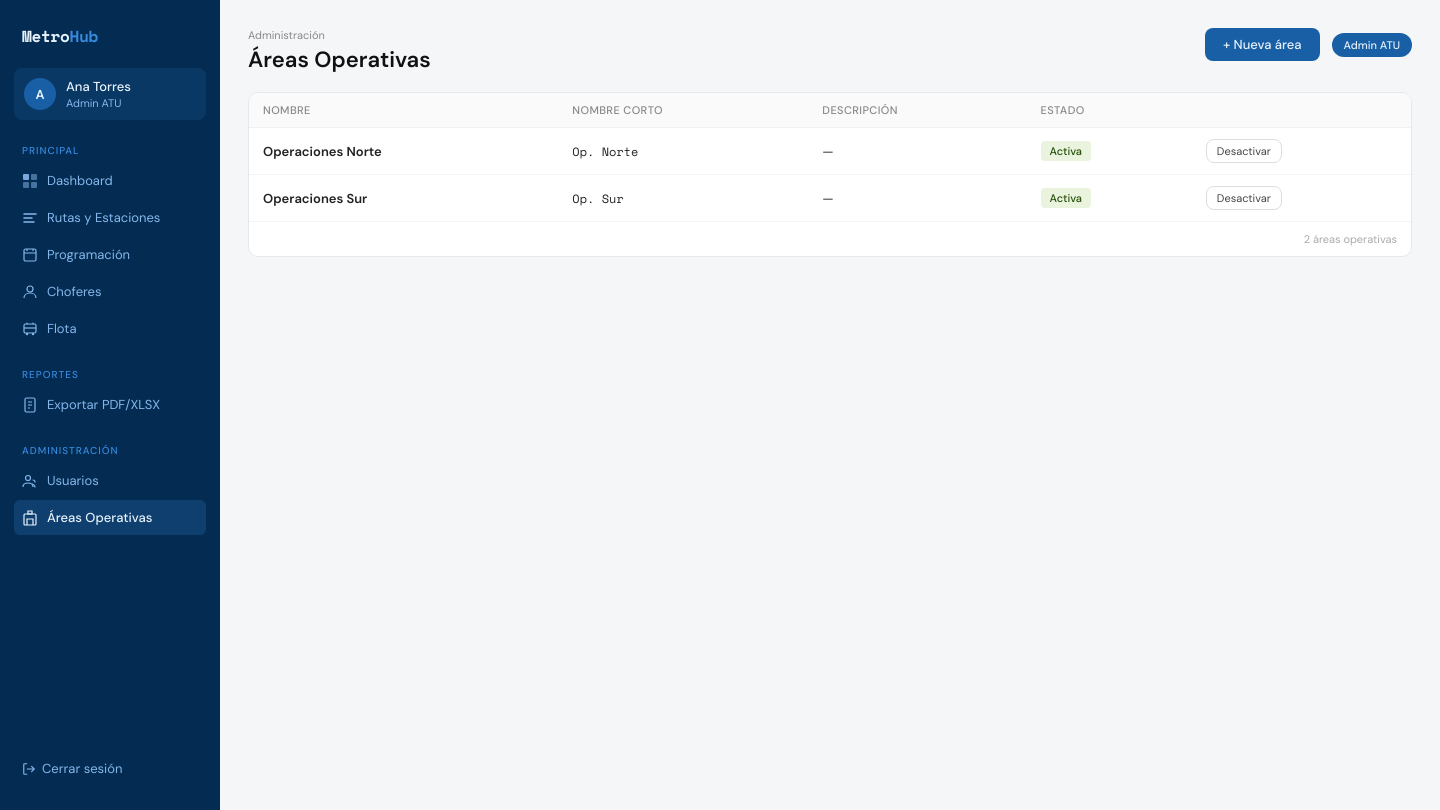
Test case: Areas (RF08) › crea un área y la agrega a la tabla
Expected: the text "Operaciones Norte" is shown, [263,142,382,160]
Click the button "+ Nueva área".
click(1262, 44)  # box [1205,28,1320,61]
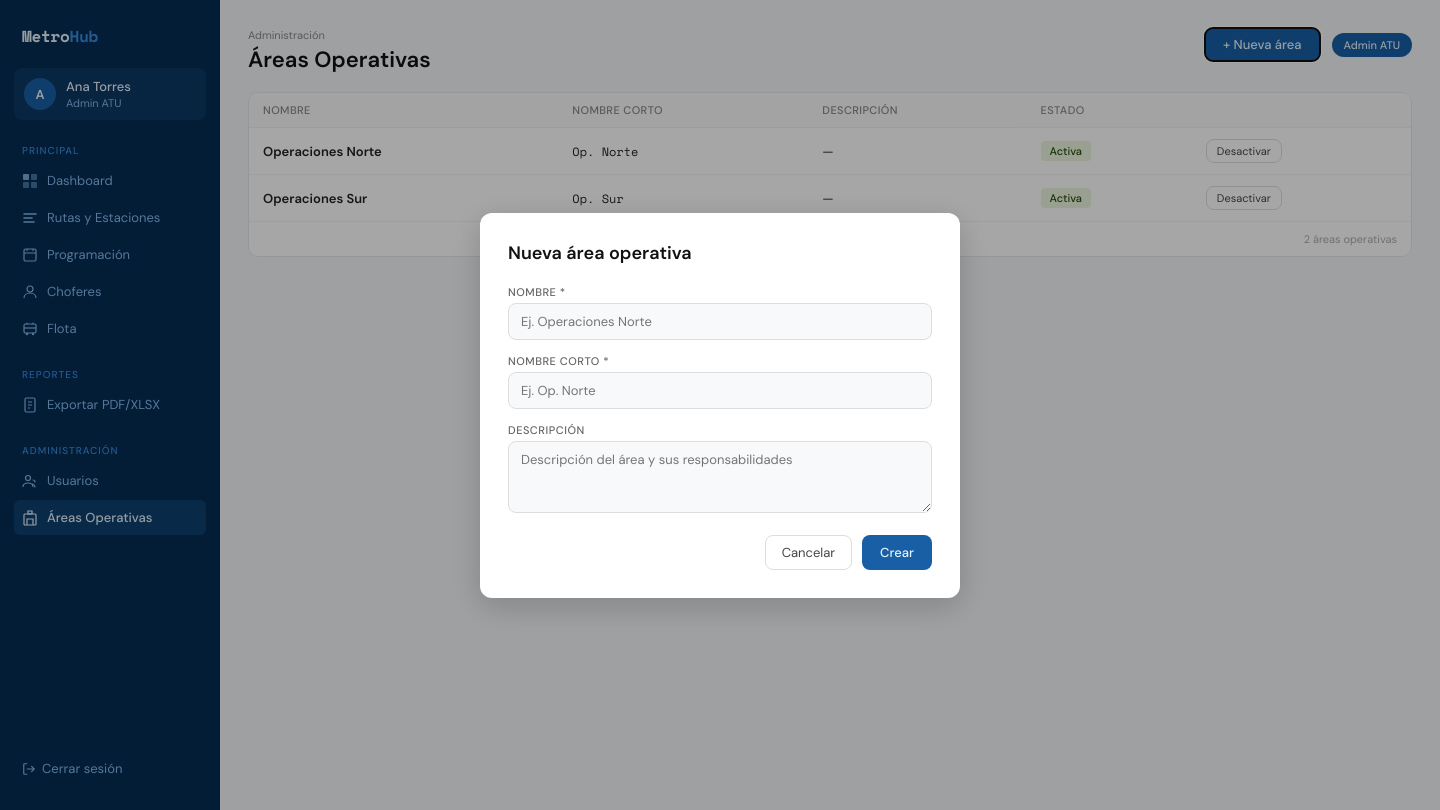
Type "Operaciones Este" into the field with placeholder "Ej. Operaciones Norte".
click(720, 321); type("Operaciones Este")  # box [508,302,932,340]
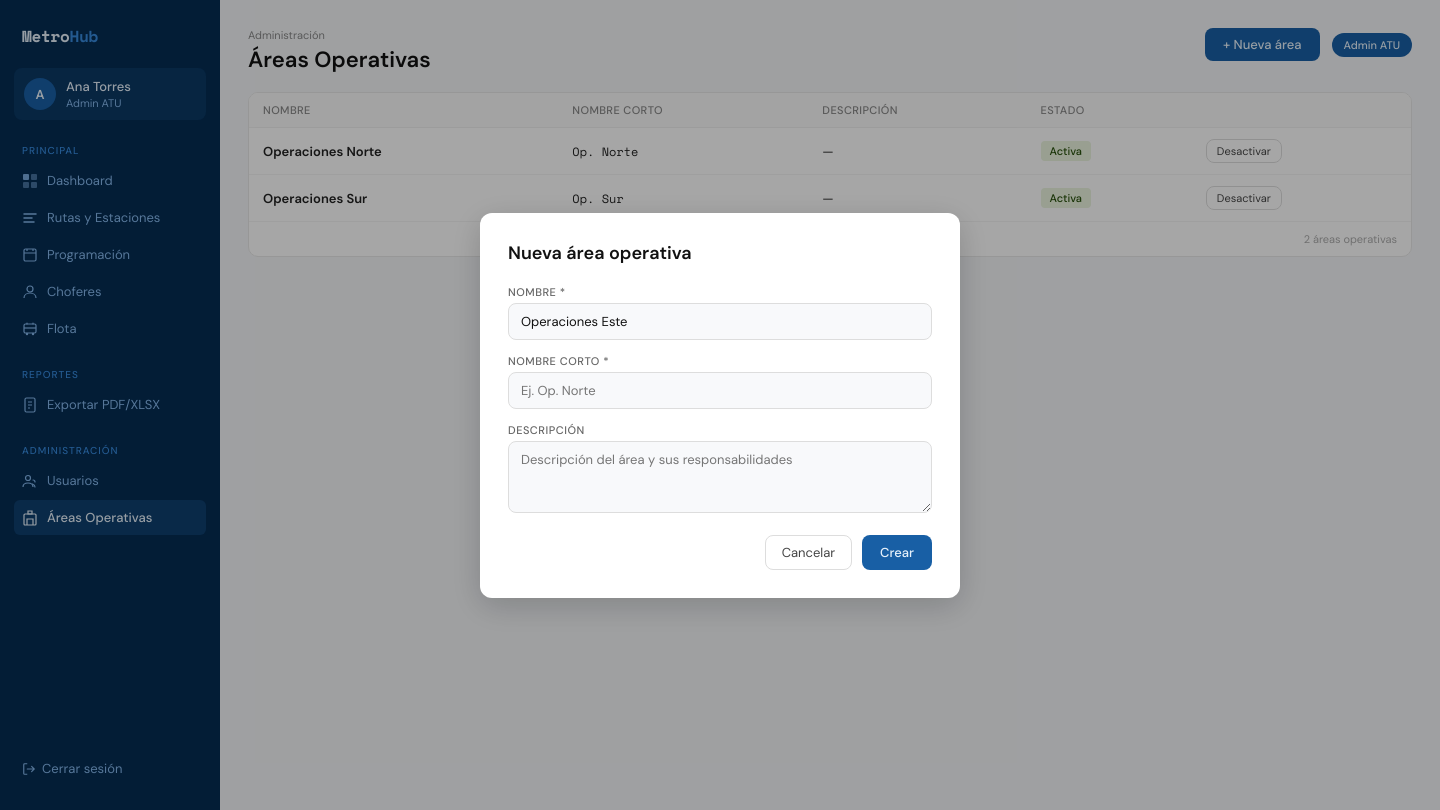
Type "Op. Este" into the field with placeholder "Ej. Op. Norte".
click(720, 390); type("Op. Este")  # box [508,372,932,408]
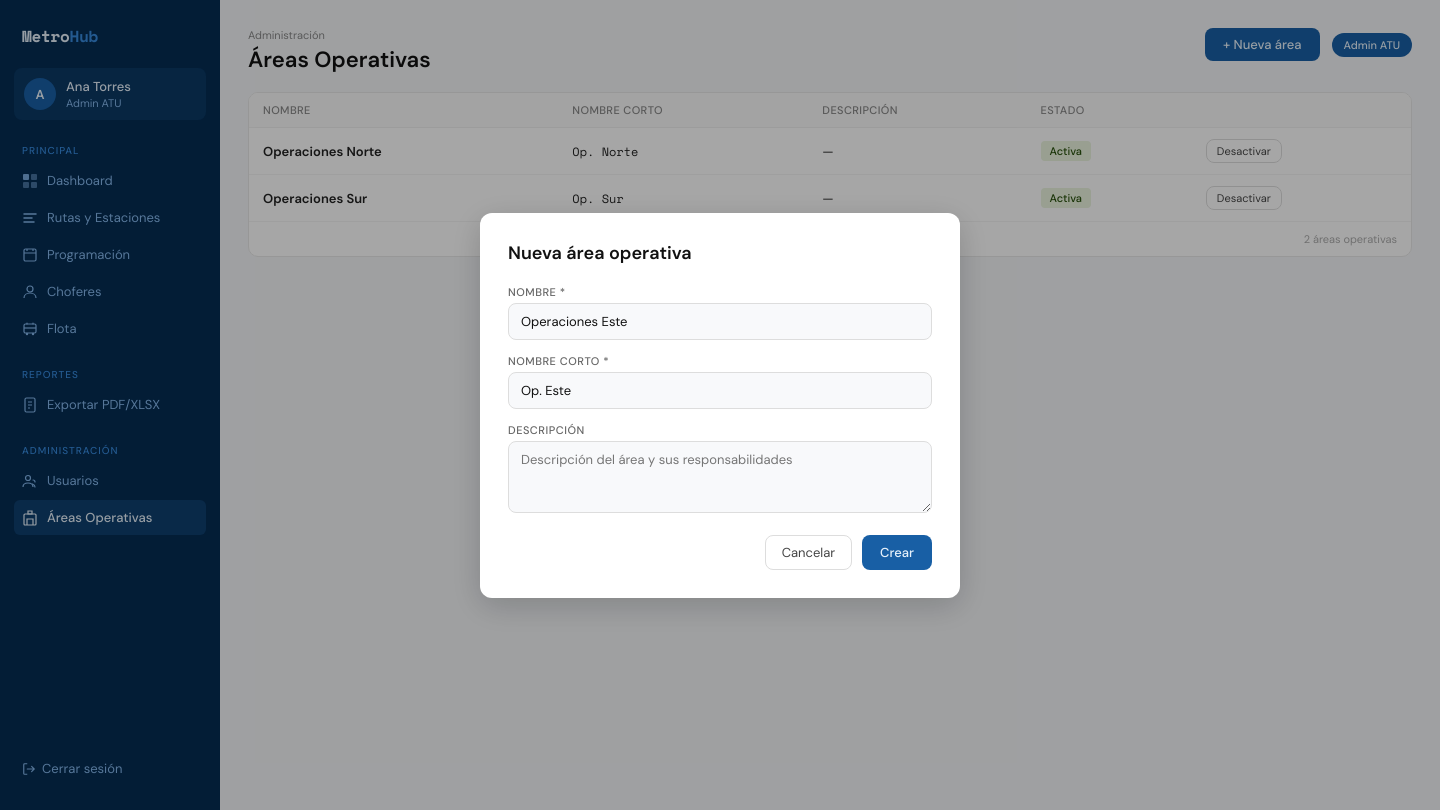
Click the button "Crear".
click(897, 552)  # box [862,534,932,570]
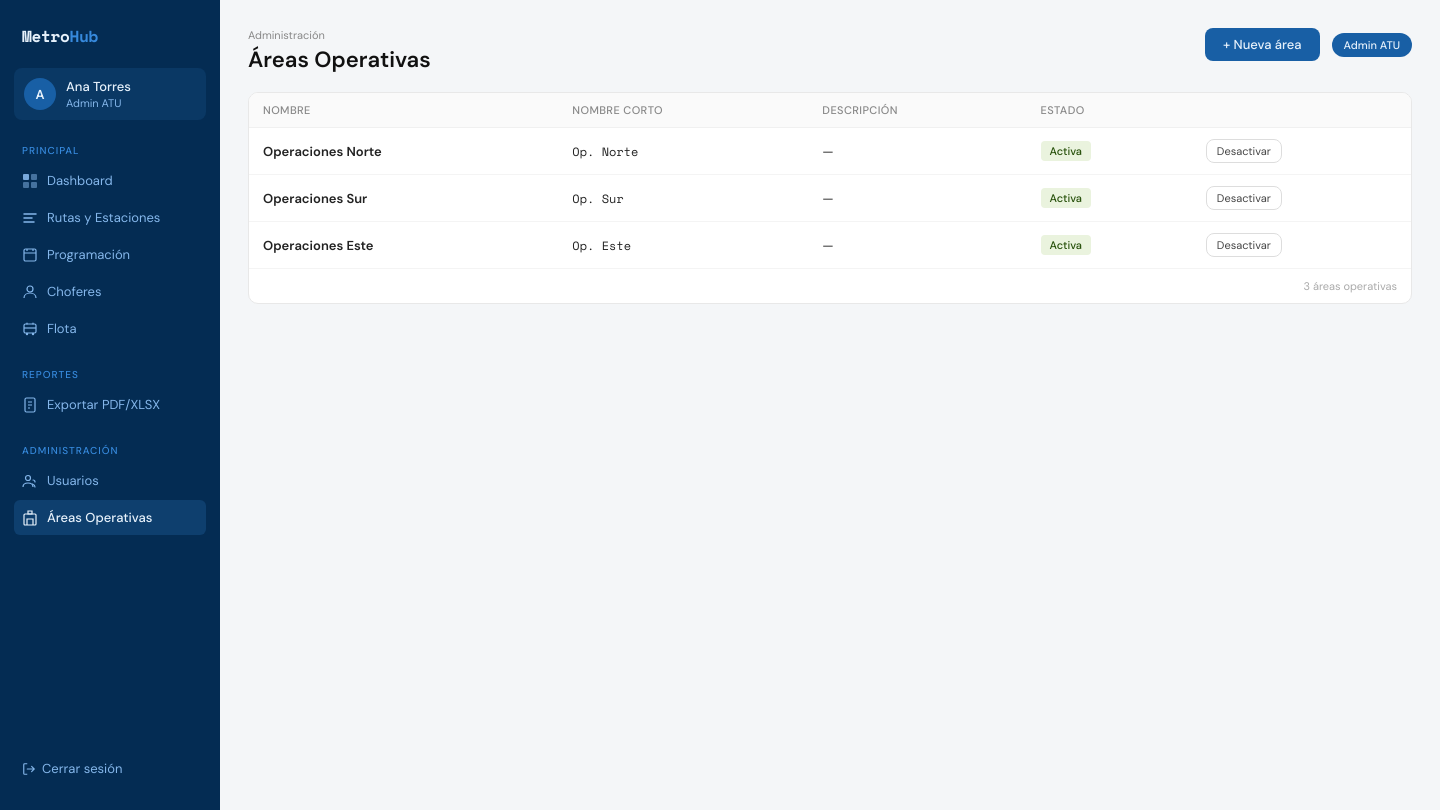
Expected: the text "Operaciones Este" is shown, [263,236,374,254]
Expected: the text "3 áreas operativas" is shown, [1304,279,1397,293]
Expected: the heading "Nueva área operativa" is gone
